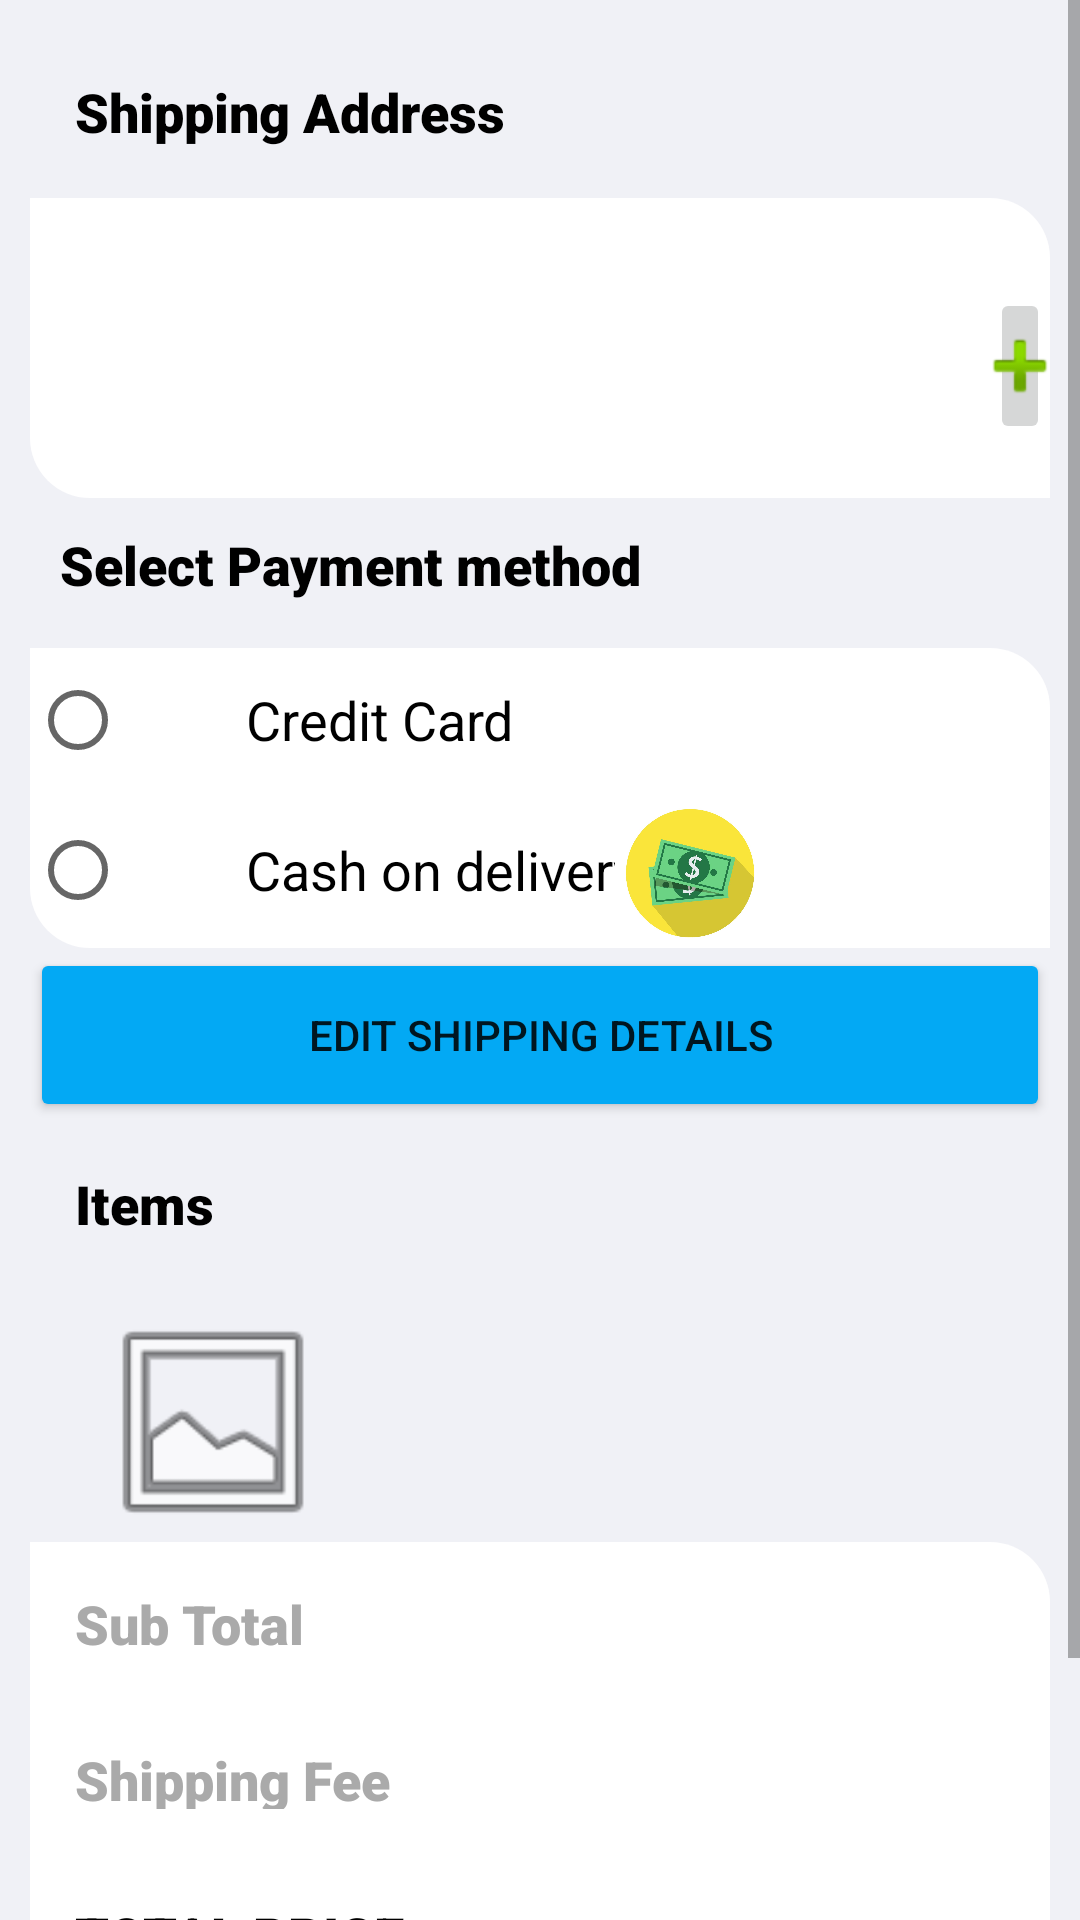

Where to tap for icons on this 1080w x 1920h app screen, as (x,y):
add: (1020,366)
gallery: (213,1422)
